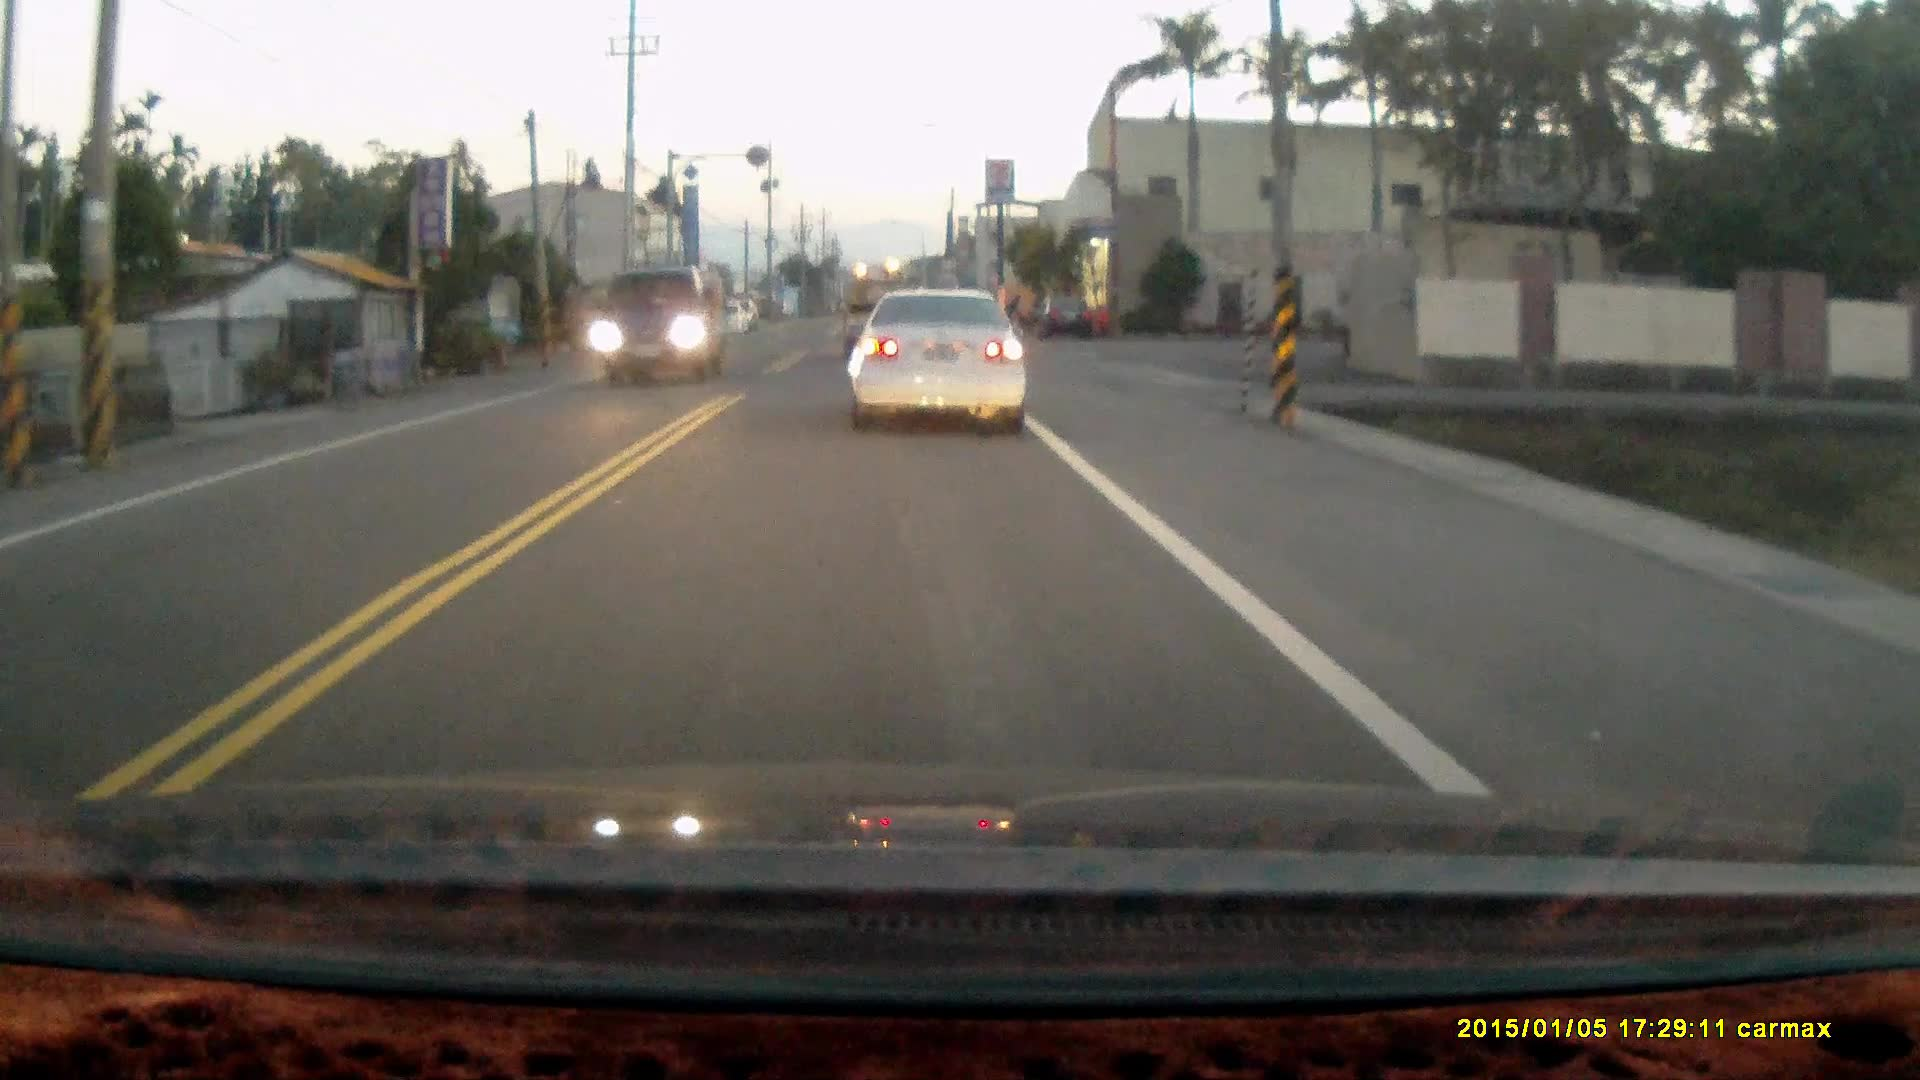vehicle: (855, 285, 1030, 439), (593, 266, 735, 388), (1038, 289, 1097, 339), (709, 297, 756, 332)
